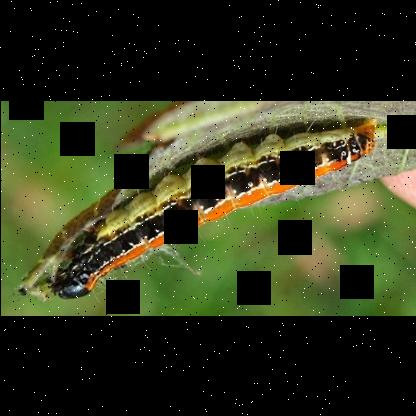oruga: (13, 101, 380, 310)
